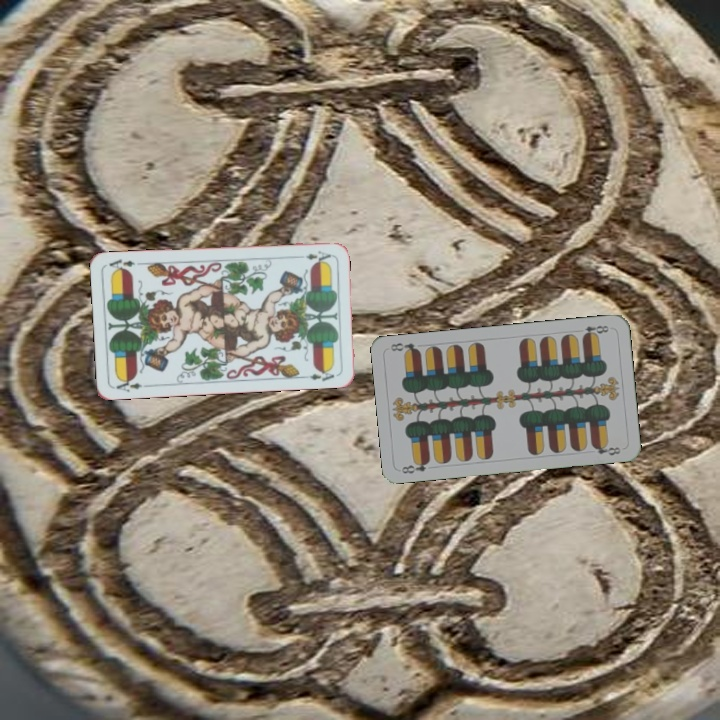E8: (397, 456, 432, 476), (579, 321, 611, 340)
EA: (112, 374, 151, 395), (293, 247, 333, 263)
